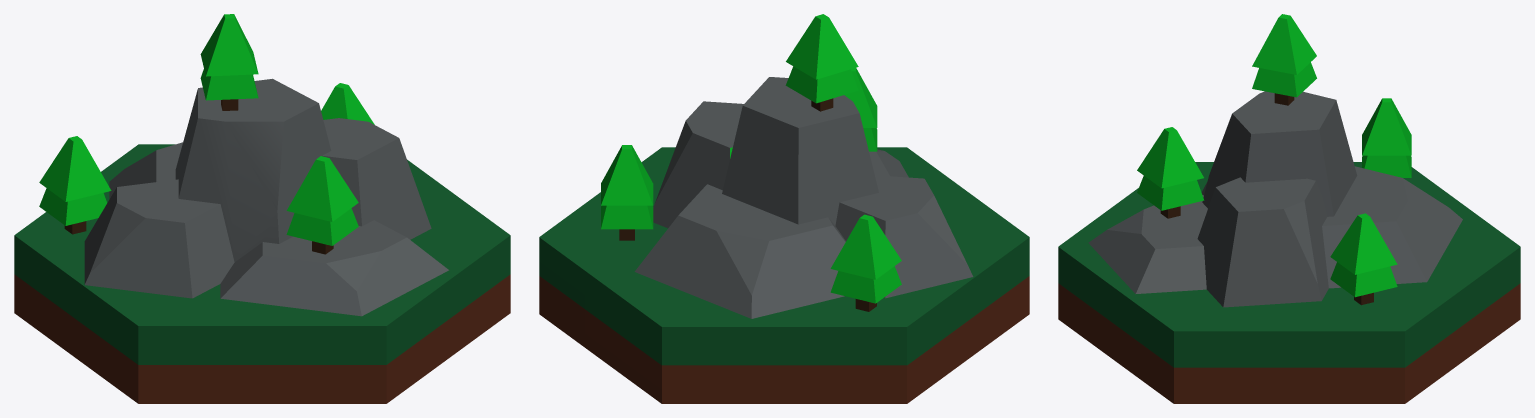
File: SM_MountainTrees.FBX
The picture shows the model from 3 angles, left to right: view 1: azimuth 30°, elevation 25°; view 2: azimuth 150°, elevation 25°; view 3: azimuth 270°, elevation 25°; orthographic projection. The views are drawn at different scales.
Visible parts, largest first — view 1: SM_MountainTrees; view 2: SM_MountainTrees; view 3: SM_MountainTrees.
Part boxes in pixels (x1,y1,x2,y2): SM_MountainTrees: [14, 14, 510, 403]; SM_MountainTrees: [539, 14, 1029, 403]; SM_MountainTrees: [1058, 14, 1520, 403].
Size of the model in its own units: 100 by 115 by 78.94.
